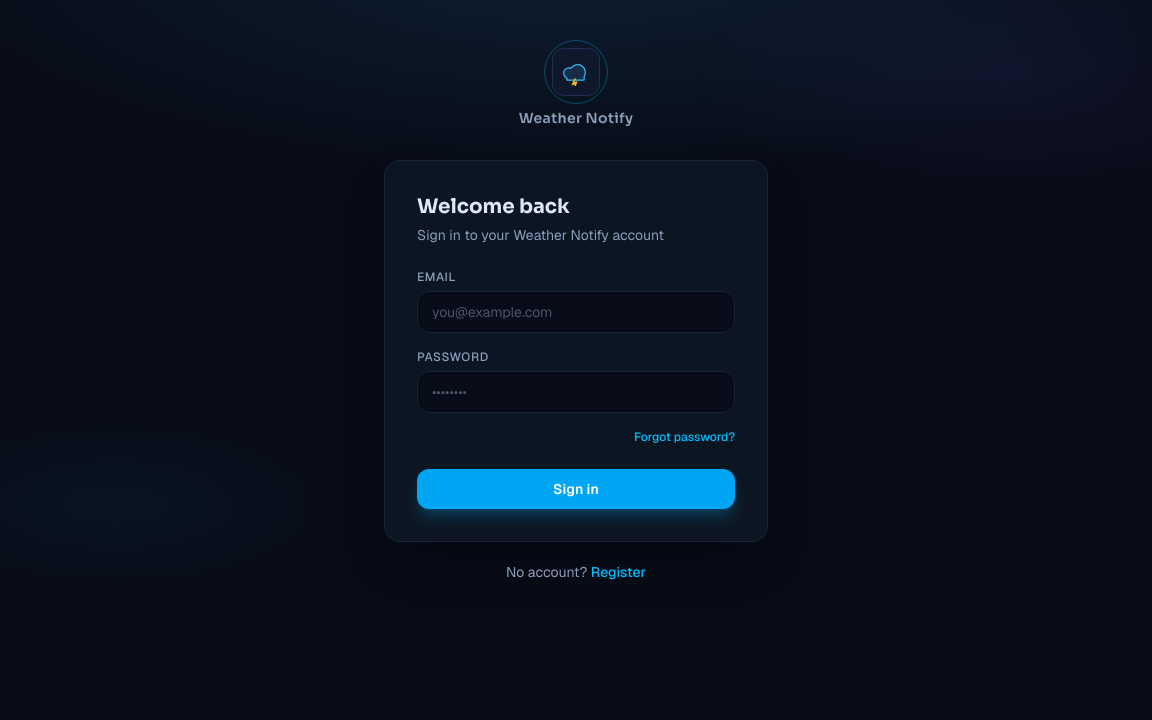
Scenario: AuthForm › surfaces an API error
Type "a@b.com" into the field with placeholder "you@example.com" at (576, 312), box [417, 291, 735, 333]
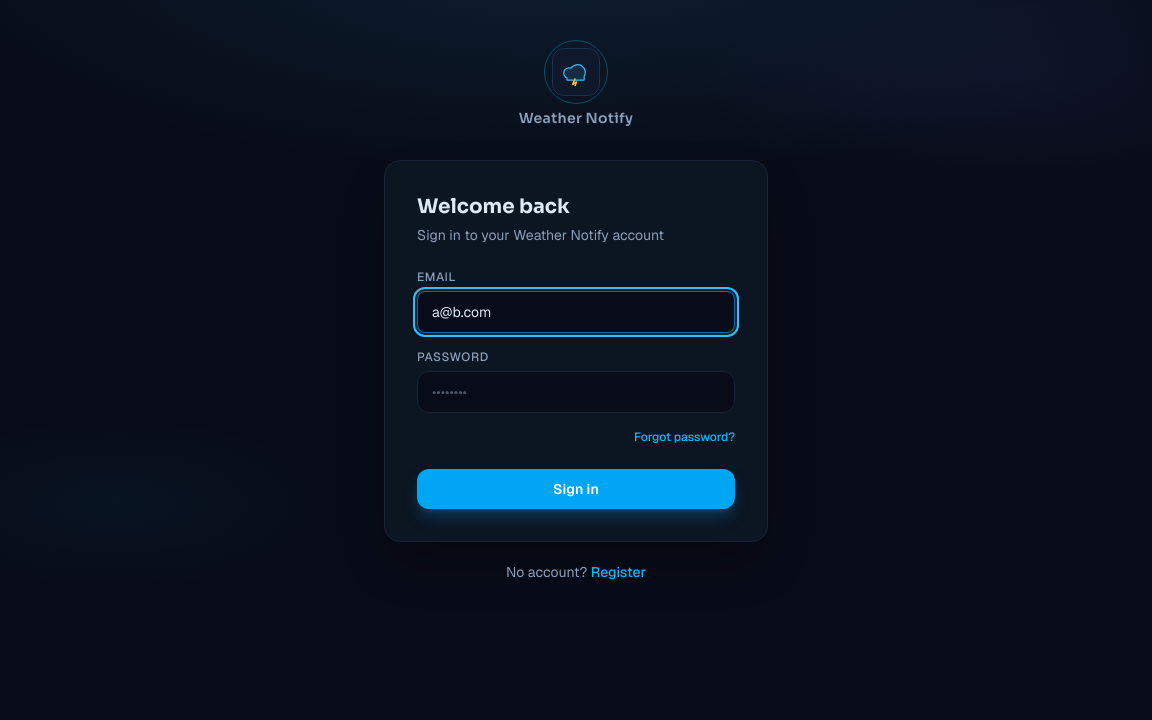
Type "password1" into the password field with placeholder "••••••••" at (576, 392), box [417, 371, 735, 413]
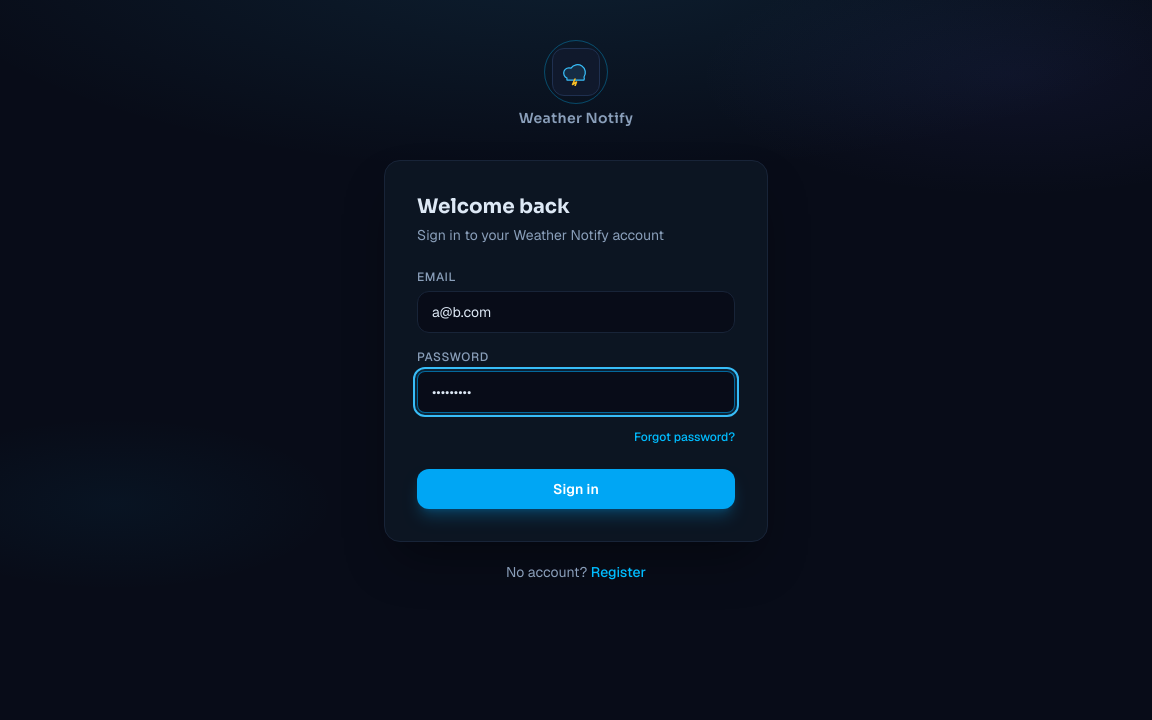
Click the button "Sign in" at (576, 489), box [417, 469, 735, 509]
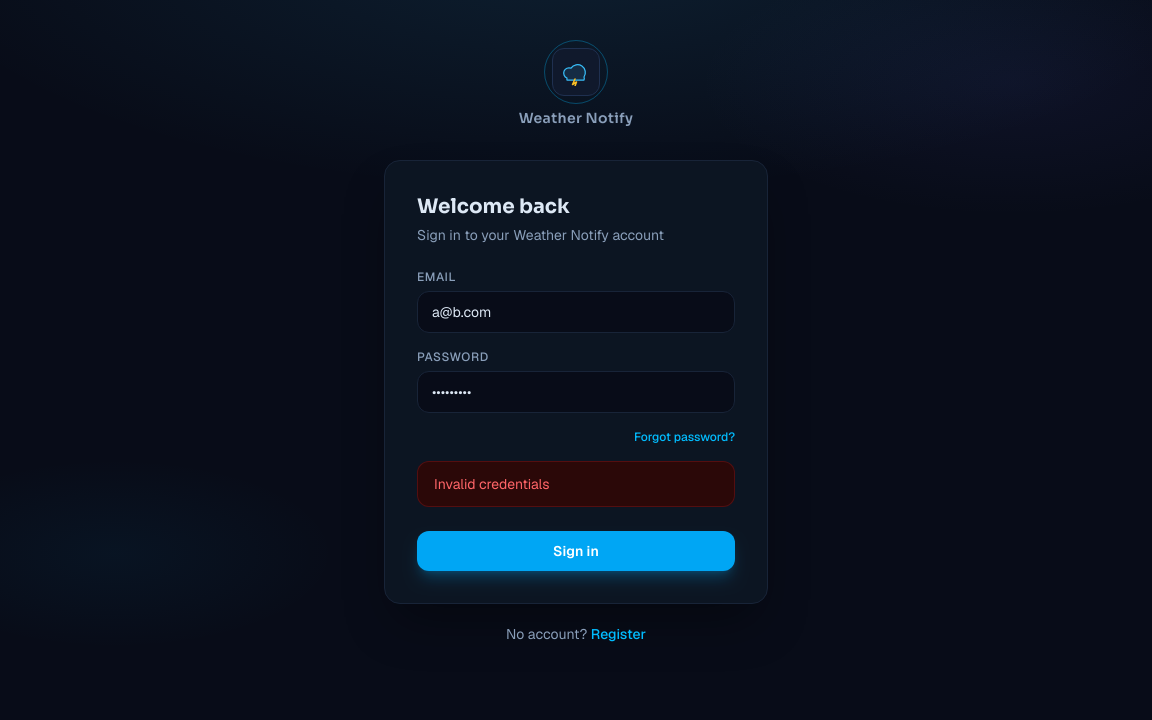
Expected: the text "Invalid credentials" is shown, [417, 461, 735, 507]
